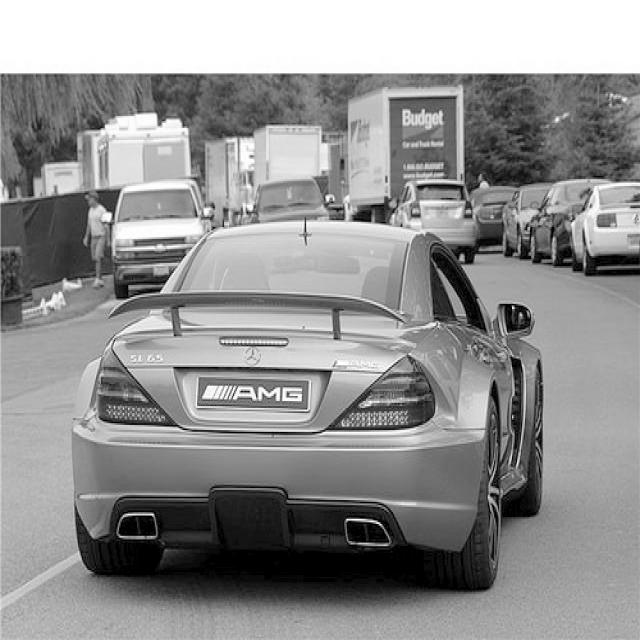car: (70, 217, 544, 590), (389, 177, 478, 263), (527, 178, 612, 266), (568, 181, 639, 275), (500, 181, 553, 258), (468, 184, 518, 244)
